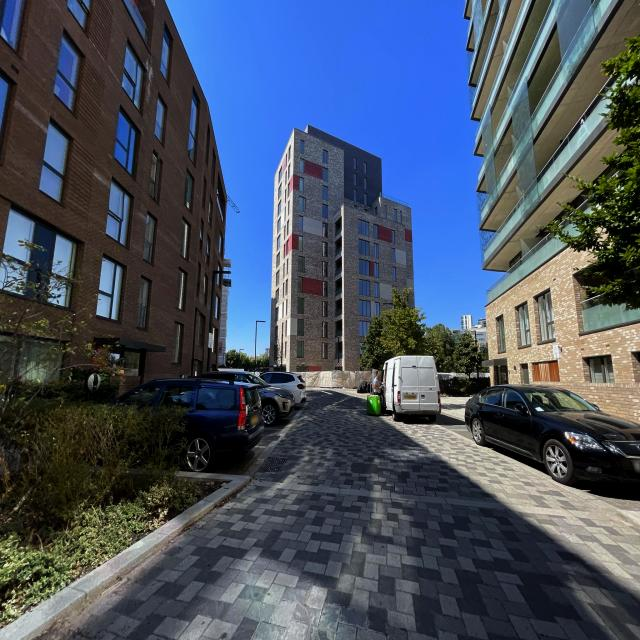car: (464, 382, 640, 488), (107, 375, 265, 472), (200, 368, 293, 426), (261, 369, 307, 408)
